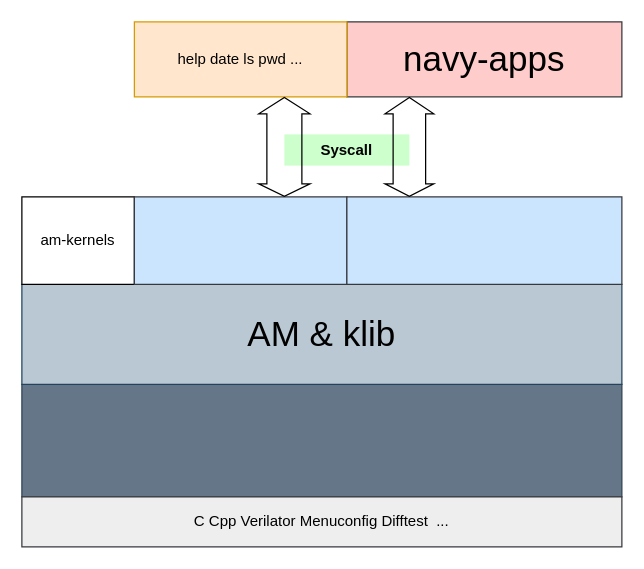
This 644x569 diagram has some shape labels left out. Each missing label, with the box of its shape:
Nanos-lite: (346, 196, 622, 284)
NEMU / NPC: (21, 383, 622, 497)
RT-Thread: (133, 196, 347, 284)
